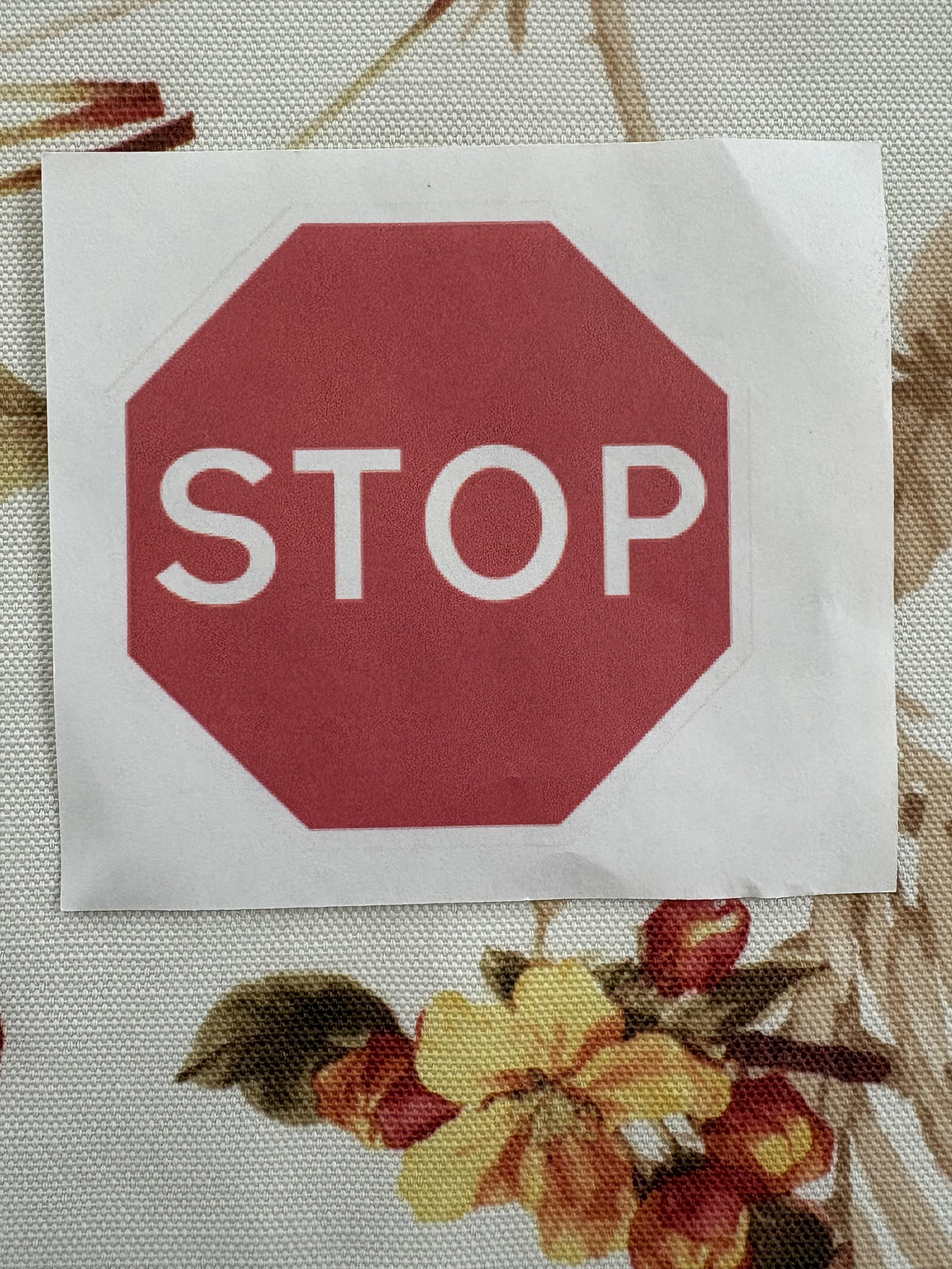Stop: (47, 161, 886, 892)
